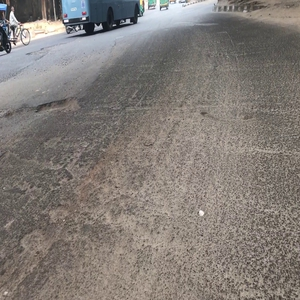pothole: (32, 97, 81, 114)
